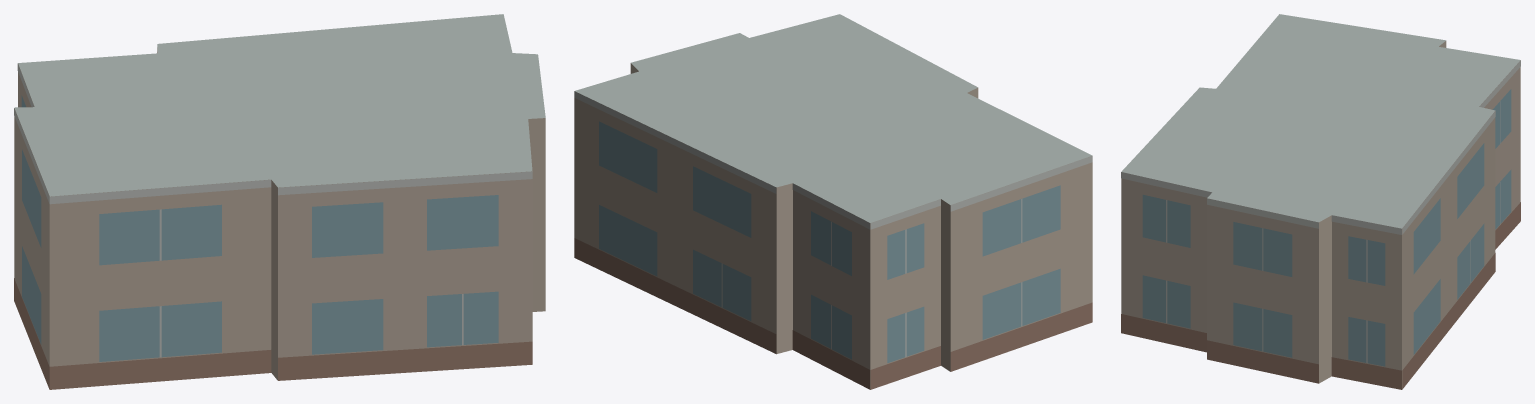
Rendered from survey-upis-32690800.glb.
3 views of the same model, side by side, from view 1: azimuth 30°, elevation 25°; view 2: azimuth 150°, elevation 25°; view 3: azimuth 270°, elevation 25° (orthographic). The views are drawn at different scales.
Parts seen in each view (by area): view 1: survey-upis-32690800.tmp; view 2: survey-upis-32690800.tmp; view 3: survey-upis-32690800.tmp.
Part boxes in pixels (x1,y1,x2,y2): survey-upis-32690800.tmp: (14, 14, 545, 389); survey-upis-32690800.tmp: (574, 14, 1092, 389); survey-upis-32690800.tmp: (1121, 14, 1520, 389).
Size of the model in its own units: 17.43 by 6.1 by 13.72.
